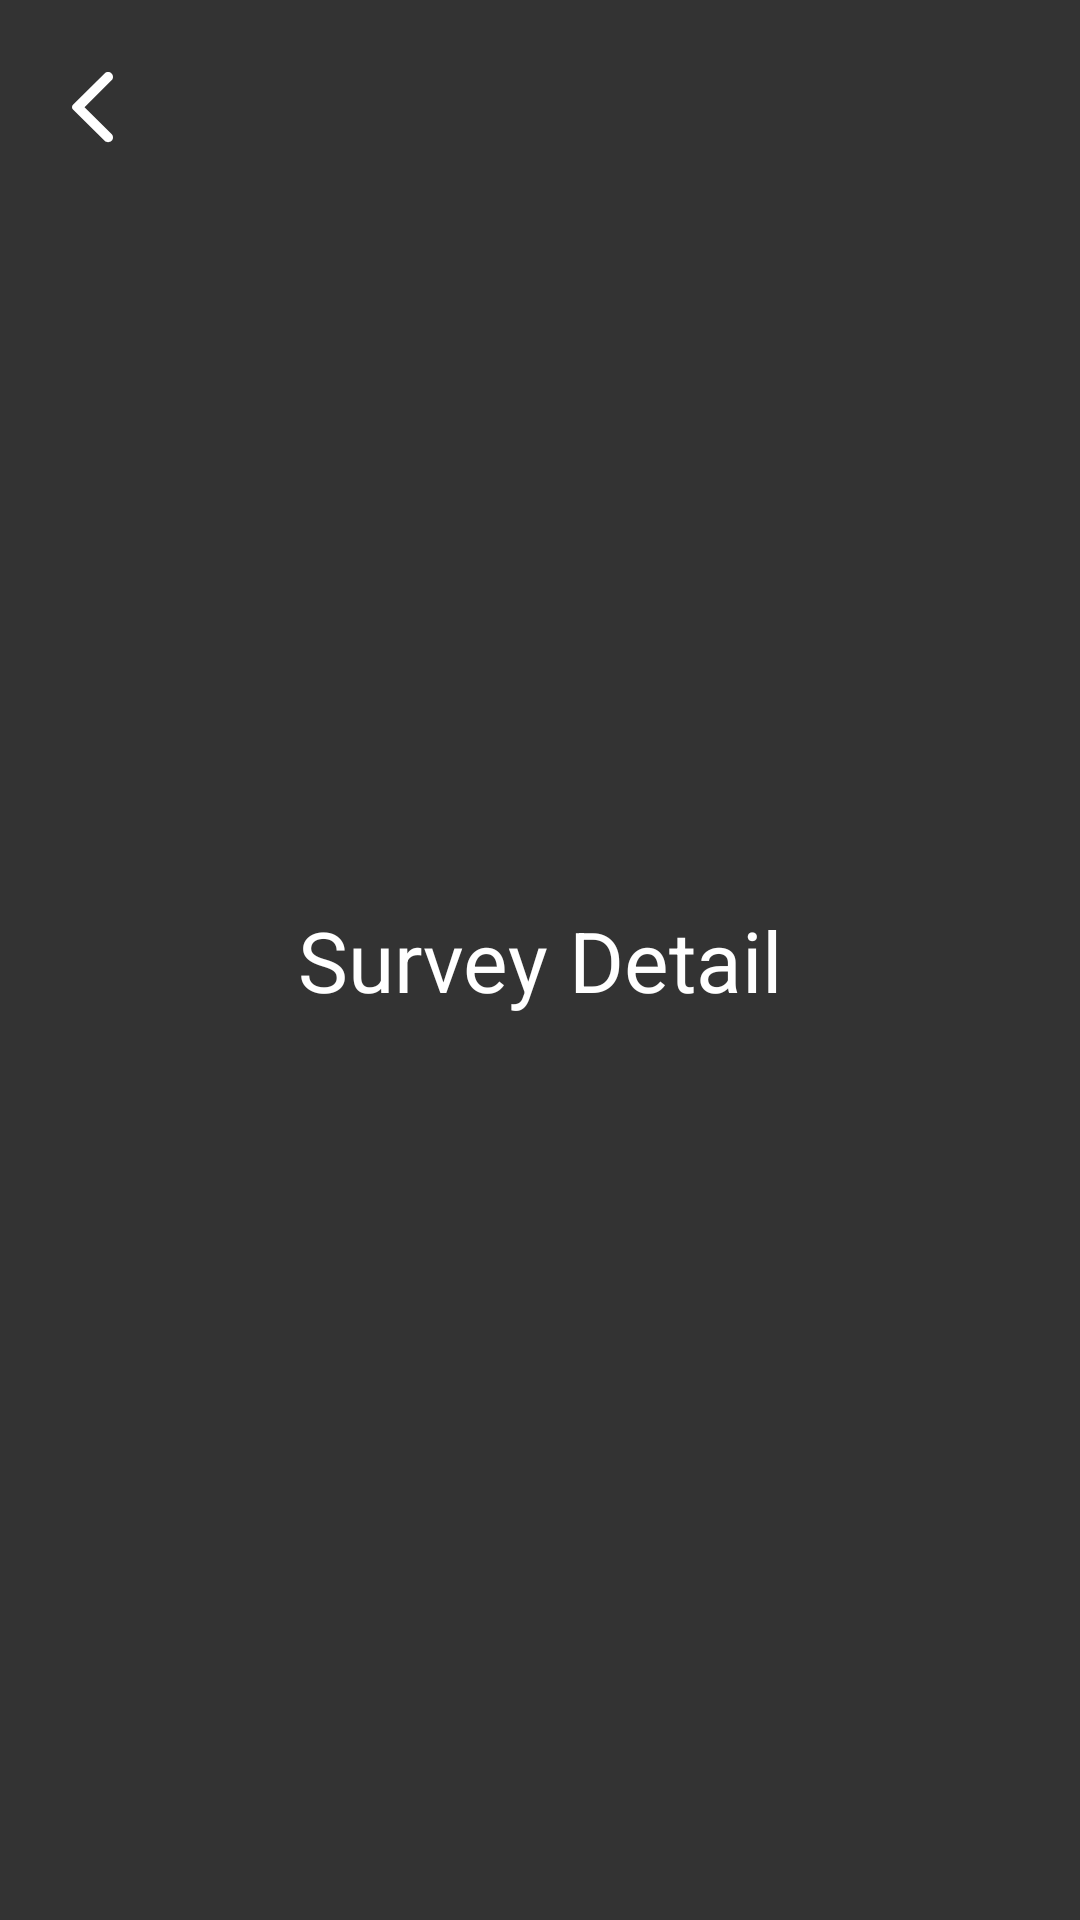

Named icons in this screenshot (1080x1920) and their bounding boxes, [left=x1, top=y1, right=x2, bottom=y2]:
back: [left=72, top=72, right=113, bottom=143]
